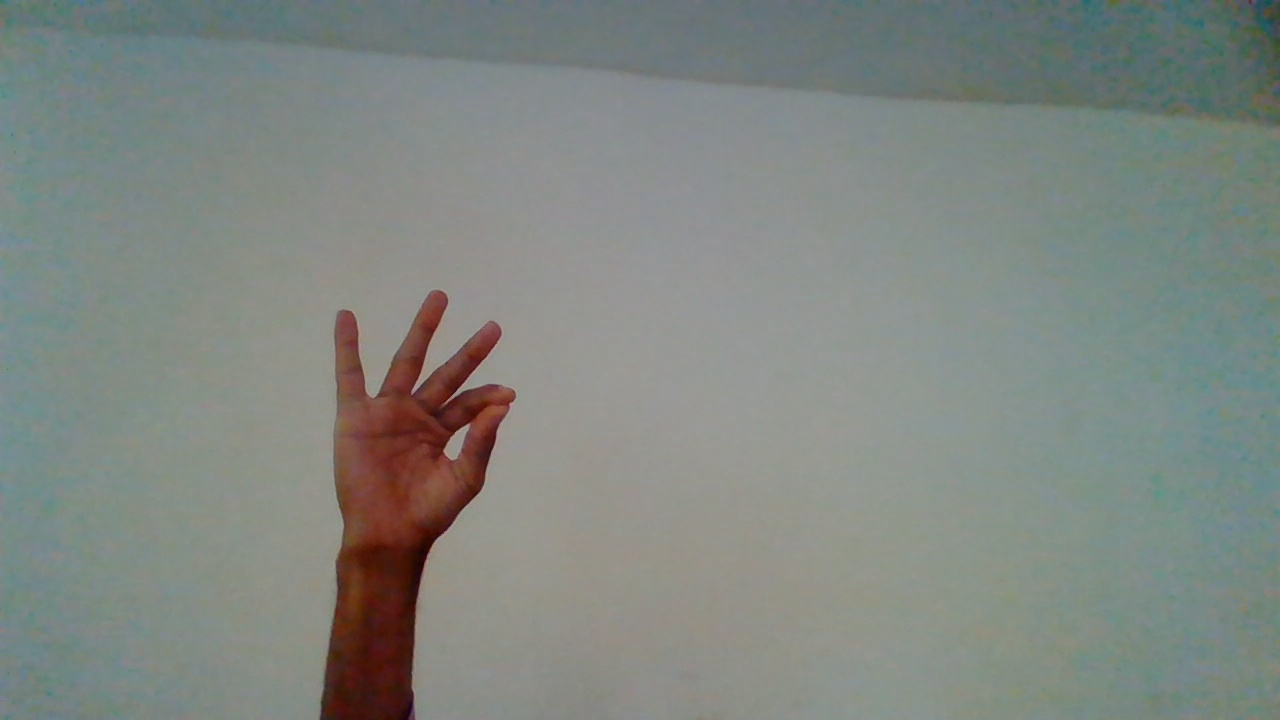le: (319, 289, 521, 680)
